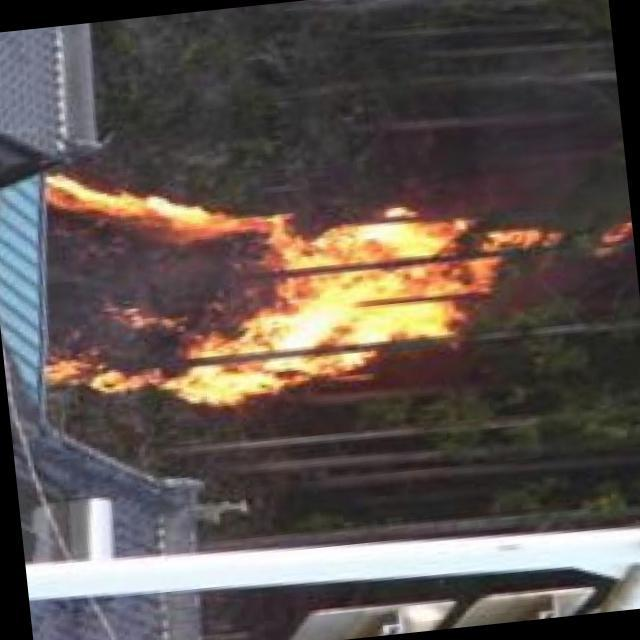Fire: (28, 133, 558, 431)
